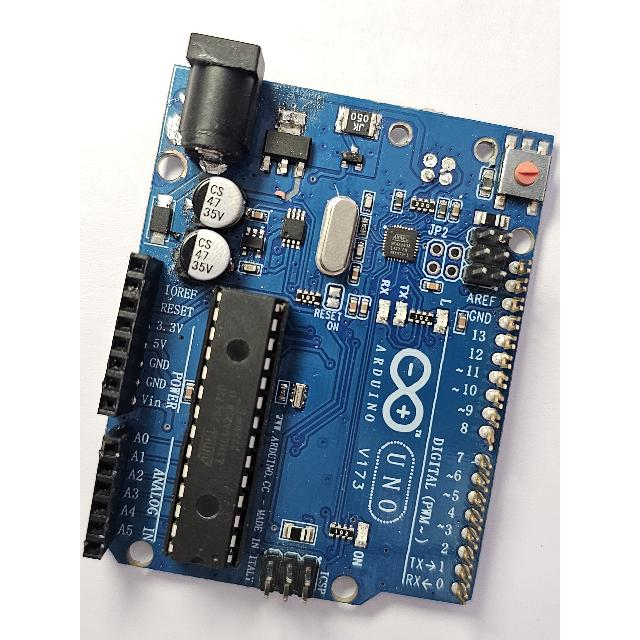missing_digital_pins: (443, 245, 538, 600)
missing_usb: (378, 109, 484, 201)
